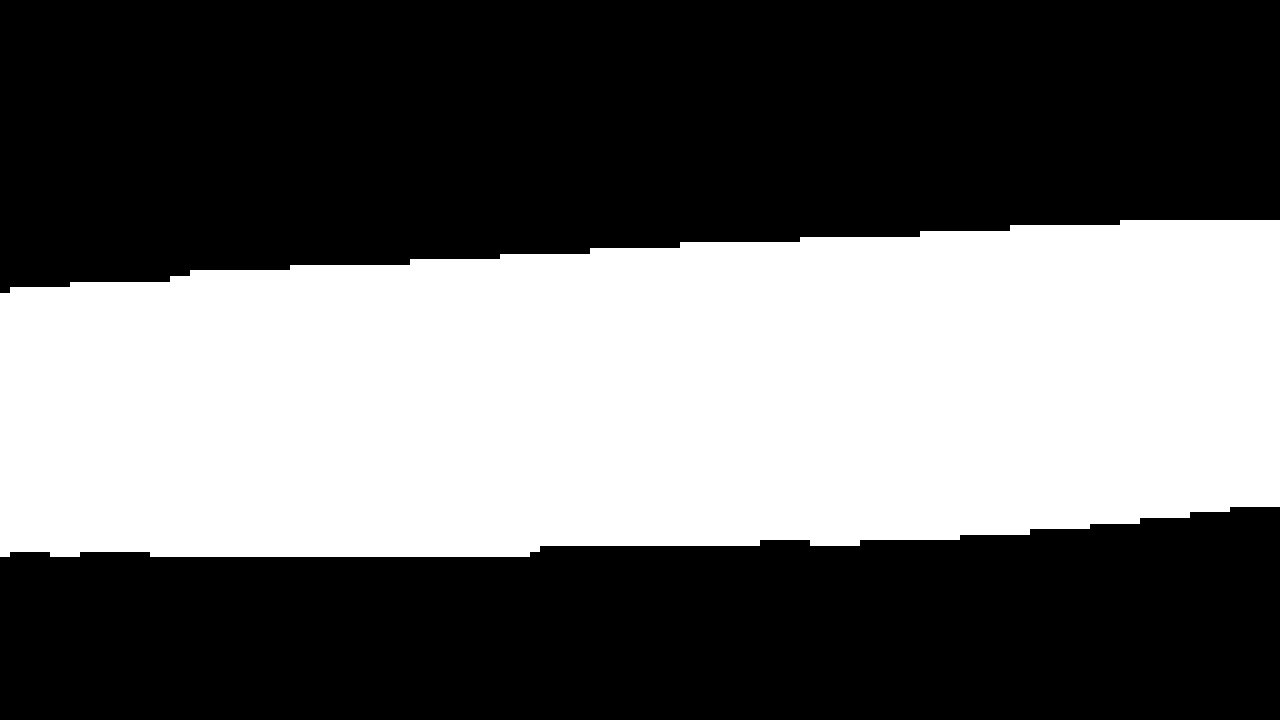Turbine: (6, 175, 1274, 588)
